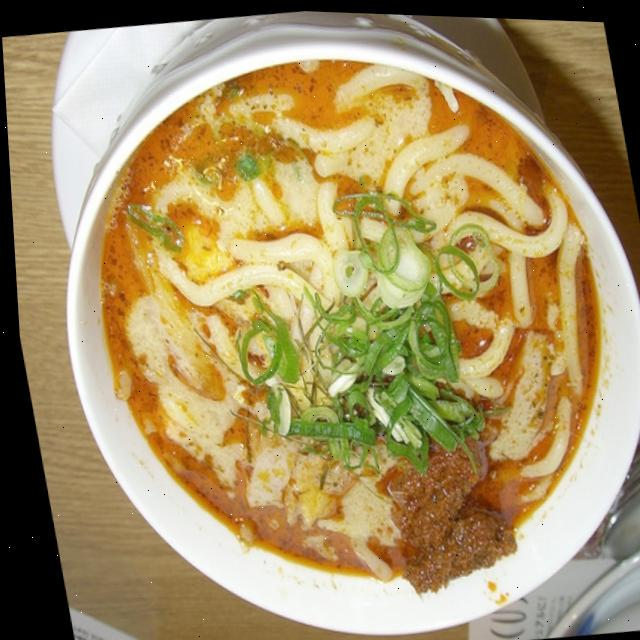面条主食: (28, 24, 640, 640)
